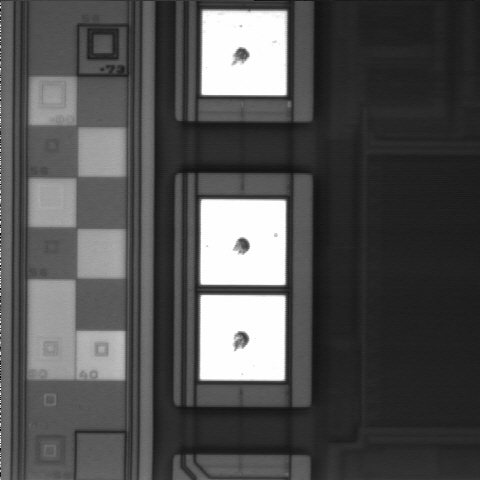pad: (201, 199, 286, 285), (200, 295, 285, 381), (202, 11, 286, 95)
